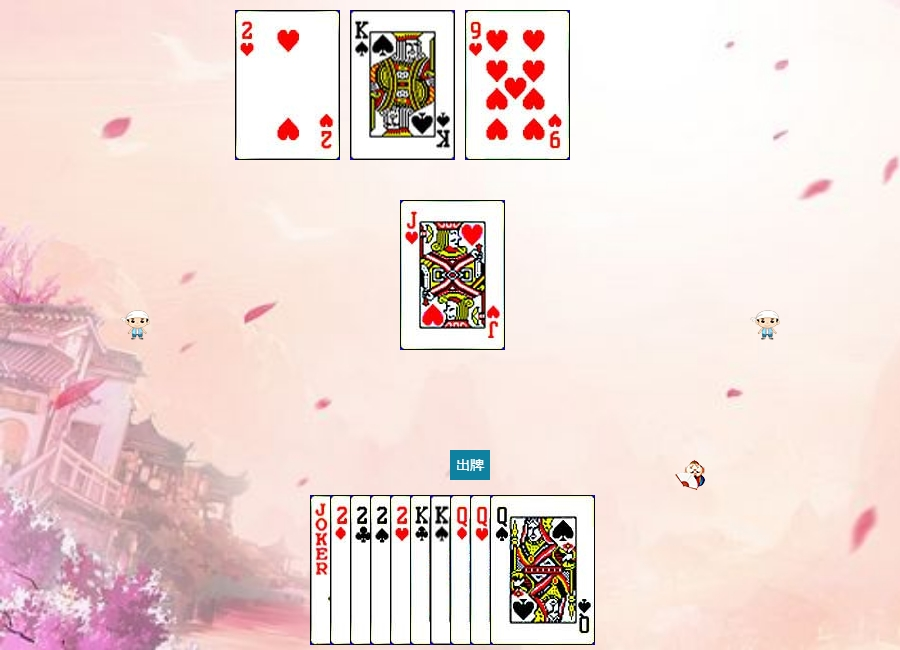11~3: (400, 200, 505, 350)
12~1: (450, 495, 555, 645)
12~3: (470, 495, 575, 645)
12~4: (490, 495, 595, 645)
13~2: (410, 495, 515, 645)
13~4: (350, 10, 455, 160), (430, 495, 535, 645)
15~1: (330, 495, 435, 645)
15~2: (350, 495, 455, 645)
15~3: (235, 10, 340, 160), (390, 495, 495, 645)
15~4: (370, 495, 475, 645)
18~4: (310, 495, 415, 645)
9~3: (465, 10, 570, 160)
